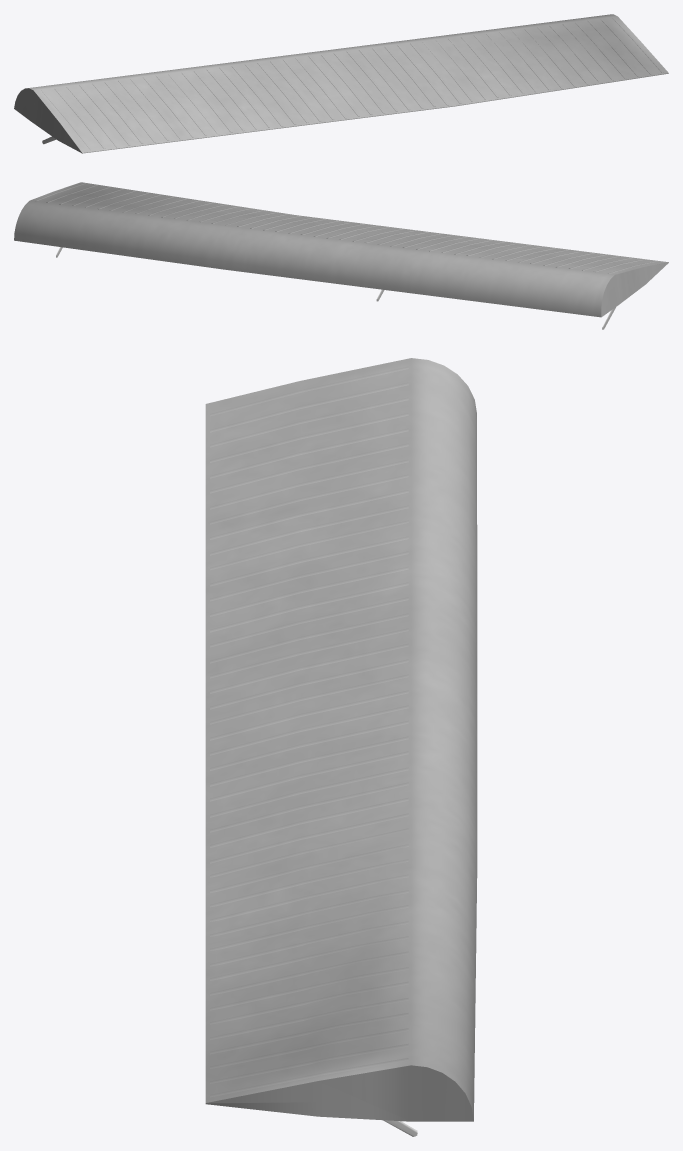
File: flap_left.obj
The picture shows the model from 3 angles, top to bottom: view 1: azimuth 30°, elevation 25°; view 2: azimuth 150°, elevation 25°; view 3: azimuth 270°, elevation 25°; orthographic projection. The views are drawn at different scales.
Visible parts, largest first — view 1: voletG_voletG.mesh; view 2: voletG_voletG.mesh; view 3: voletG_voletG.mesh.
Part boxes in pixels (<box>): voletG_voletG.mesh: <box>14,14,668,153</box>; voletG_voletG.mesh: <box>14,182,668,329</box>; voletG_voletG.mesh: <box>205,358,477,1136</box>.
Bounding box in the file's own units: 2.17 × 0.4165 × 0.4344.
1 material, 1 textured.
